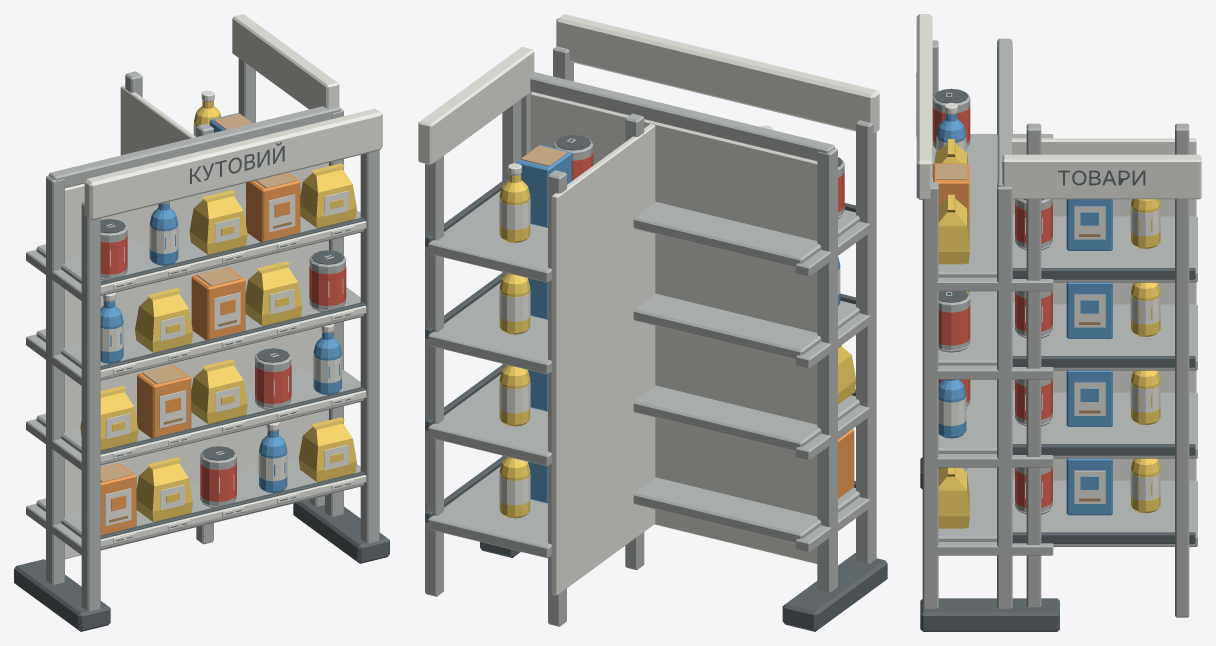
The model's file is Shelf_Corner.fbx.
3 renders of one model, left to right at view 1: azimuth 30°, elevation 25°; view 2: azimuth 150°, elevation 25°; view 3: azimuth 270°, elevation 25°, orthographic. The views are drawn at different scales.
Parts seen in each view (by area): view 1: Shelf_Corner__LPCXFER, Shelf_Corner__Back_corner__LPCXFER, Shelf_Corner__Header_corner__LPCXFER, Shelf_Corner__Shelf_1__LPCXFER, Shelf_Corner__Shelf_4__LPCXFER, Shelf_Corner__Shelf_2__LPCXFER, Shelf_Corner__Shelf_3__LPCXFER, Shelf_Corner__Corner_Return_Frame__LPCXFER, Shelf_Corner__Corner_Return_Header__LPCXFER, Shelf_Corner_Item_2_F_2_box__LPCXFER, Shelf_Corner_Item_3_F_3_box__LPCXFER, Shelf_Corner_Item_4_F_4_box__LPCXFER (+19 smaller); view 2: Shelf_Corner__Corner_Return_Frame__LPCXFER, Shelf_Corner__Back_corner__LPCXFER, Shelf_Corner__LPCXFER, Shelf_Corner__Header_corner__LPCXFER, Shelf_Corner__Shelf_3__LPCXFER, Shelf_Corner__Shelf_4__LPCXFER, Shelf_Corner__Corner_Return_Shelf_4__LPCXFER, Shelf_Corner__Shelf_2__LPCXFER, Shelf_Corner__Corner_Return_Shelf_3__LPCXFER, Shelf_Corner__Corner_Return_Shelf_1__LPCXFER, Shelf_Corner__Corner_Return_Shelf_2__LPCXFER, Shelf_Corner__Corner_Return_Header__LPCXFER (+12 smaller); view 3: Shelf_Corner__LPCXFER, Shelf_Corner__Corner_Return_Frame__LPCXFER, Shelf_Corner__Corner_Return_Header__LPCXFER, Shelf_Corner__Corner_Return_Shelf_1__LPCXFER, Shelf_Corner__Corner_Return_Shelf_4__LPCXFER, Shelf_Corner__Corner_Return_Shelf_2__LPCXFER, Shelf_Corner__Corner_Return_Shelf_3__LPCXFER, Shelf_Corner__Shelf_4__LPCXFER, Shelf_Corner__Shelf_2__LPCXFER, Shelf_Corner__Header_corner__LPCXFER, Shelf_Corner__Shelf_3__LPCXFER, Shelf_Corner_Item_1_Side_2_box__LPCXFER (+21 smaller).
Part boxes in pixels (box(x1,y1,x2,y2)): Shelf_Corner__LPCXFER: box(14, 106, 389, 631); Shelf_Corner__Back_corner__LPCXFER: box(65, 162, 328, 559); Shelf_Corner__Header_corner__LPCXFER: box(84, 108, 382, 220); Shelf_Corner__Shelf_1__LPCXFER: box(36, 458, 366, 549); Shelf_Corner__Shelf_4__LPCXFER: box(36, 214, 366, 295); Shelf_Corner__Shelf_2__LPCXFER: box(36, 370, 366, 465); Shelf_Corner__Shelf_3__LPCXFER: box(36, 286, 366, 380); Shelf_Corner__Corner_Return_Frame__LPCXFER: box(120, 58, 324, 544); Shelf_Corner__Corner_Return_Header__LPCXFER: box(232, 14, 339, 109); Shelf_Corner_Item_2_F_2_box__LPCXFER: box(137, 365, 191, 438); Shelf_Corner_Item_3_F_3_box__LPCXFER: box(191, 267, 245, 340); Shelf_Corner_Item_4_F_4_box__LPCXFER: box(246, 172, 300, 242); Shelf_Corner__Corner_Return_Frame__LPCXFER: box(425, 99, 655, 626); Shelf_Corner__Back_corner__LPCXFER: box(530, 92, 817, 563); Shelf_Corner__LPCXFER: box(480, 46, 887, 631); Shelf_Corner__Header_corner__LPCXFER: box(556, 14, 879, 133); Shelf_Corner__Shelf_3__LPCXFER: box(633, 293, 859, 359); Shelf_Corner__Shelf_4__LPCXFER: box(633, 201, 859, 267); Shelf_Corner__Corner_Return_Shelf_4__LPCXFER: box(425, 178, 551, 282); Shelf_Corner__Shelf_2__LPCXFER: box(633, 385, 859, 451); Shelf_Corner__Corner_Return_Shelf_3__LPCXFER: box(425, 272, 551, 374); Shelf_Corner__Corner_Return_Shelf_1__LPCXFER: box(425, 456, 551, 558); Shelf_Corner__Corner_Return_Shelf_2__LPCXFER: box(425, 364, 551, 466); Shelf_Corner__Corner_Return_Header__LPCXFER: box(418, 47, 534, 165); Shelf_Corner__LPCXFER: box(920, 38, 1059, 631); Shelf_Corner__Corner_Return_Frame__LPCXFER: box(1012, 123, 1196, 617); Shelf_Corner__Corner_Return_Header__LPCXFER: box(1002, 154, 1201, 199); Shelf_Corner__Corner_Return_Shelf_1__LPCXFER: box(1012, 480, 1197, 546); Shelf_Corner__Corner_Return_Shelf_4__LPCXFER: box(1012, 216, 1197, 282); Shelf_Corner__Corner_Return_Shelf_2__LPCXFER: box(1012, 392, 1197, 458); Shelf_Corner__Corner_Return_Shelf_3__LPCXFER: box(1012, 304, 1197, 370); Shelf_Corner__Shelf_4__LPCXFER: box(932, 134, 1050, 277); Shelf_Corner__Shelf_2__LPCXFER: box(938, 379, 1048, 453); Shelf_Corner__Header_corner__LPCXFER: box(916, 14, 932, 199); Shelf_Corner__Shelf_3__LPCXFER: box(938, 291, 1048, 365); Shelf_Corner_Item_1_Side_2_box__LPCXFER: box(1066, 458, 1112, 515).
Size of the model in its own units: 154 by 212 by 117.
